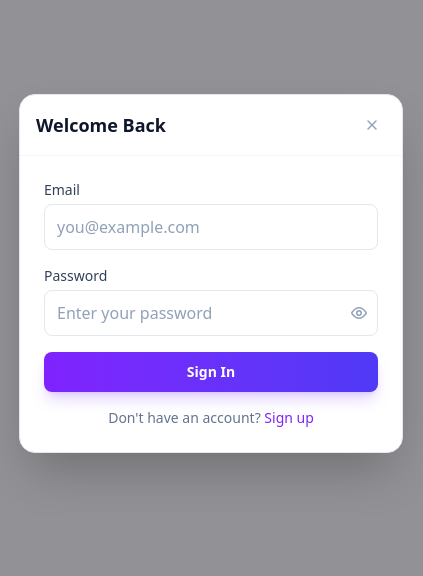
Test: AuthModal › switches to register form
This screenshot has width=423, height=576.
Click the button "Sign up": (289, 418) [264,408,314,428]
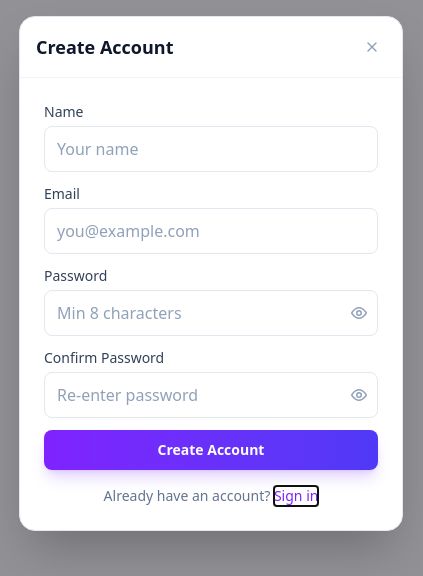
Check: the heading "Create Account" is shown, box [36,32,174,60]
Check: the field with placeholder "Your name" is shown, box [44,126,378,172]
